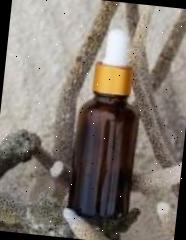glass: (68, 27, 150, 222)
